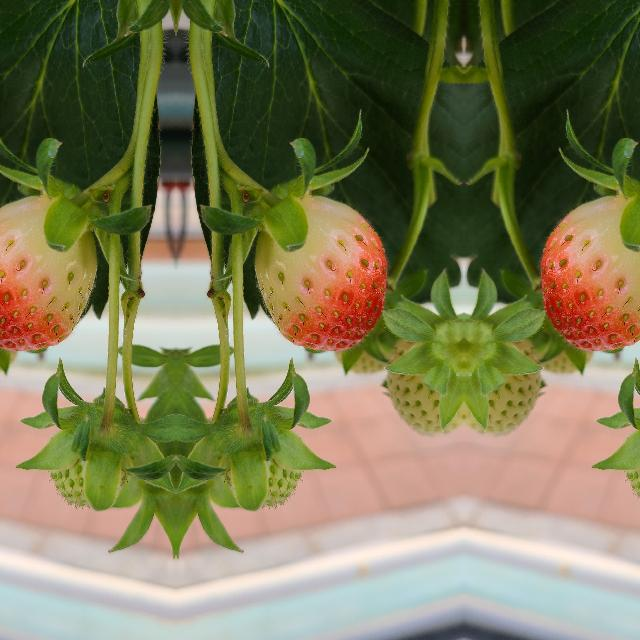Health_100: (254, 196, 386, 350), (540, 195, 640, 350), (0, 195, 96, 350)
Health_25: (218, 411, 302, 511), (48, 411, 132, 511), (383, 338, 462, 438), (463, 338, 542, 438), (623, 411, 640, 511)
